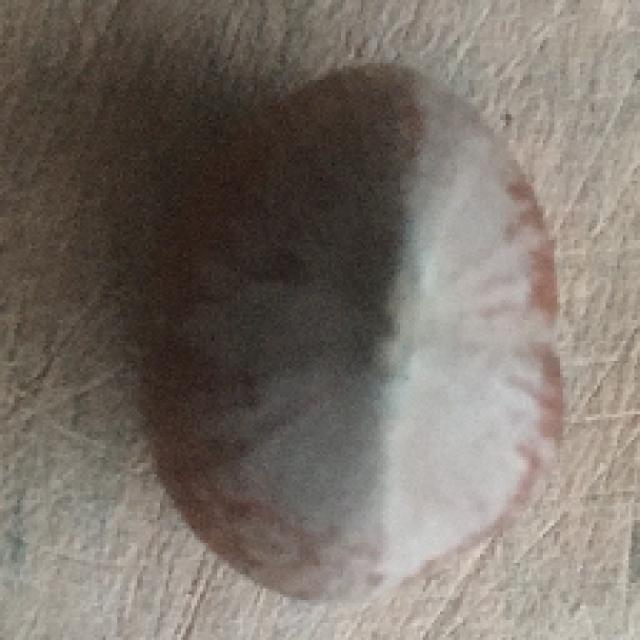QualityHazelnut: (134, 59, 569, 613)
